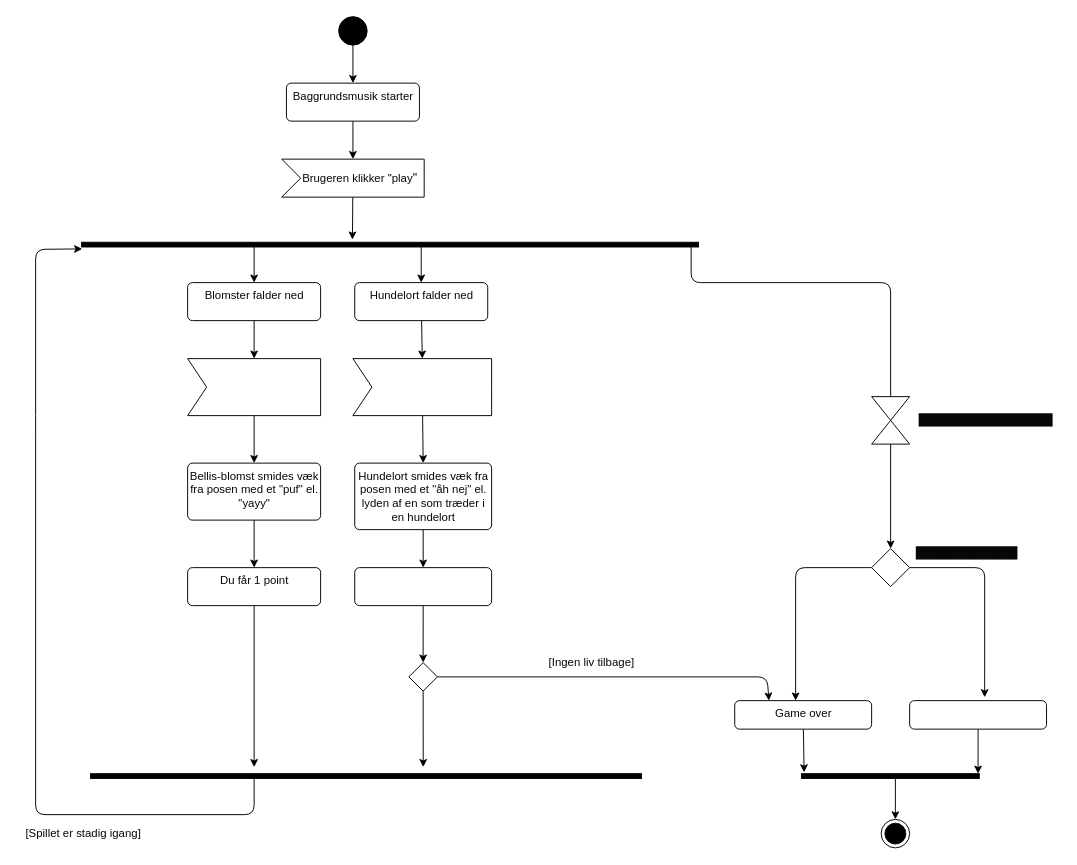
Image size: 1077x865. Some labels were removed from this diagram. The shapes that lost their labels are listed below. From the top down, each one's box as (x1, y1, x2, y2) in pixels, then its label:
(187, 358, 321, 416): Bruger klikker på blomst
(352, 358, 492, 416): Bruger klikker på hundelort
(354, 567, 492, 606): Du mister 1 liv
(909, 700, 1047, 729): Level complete
